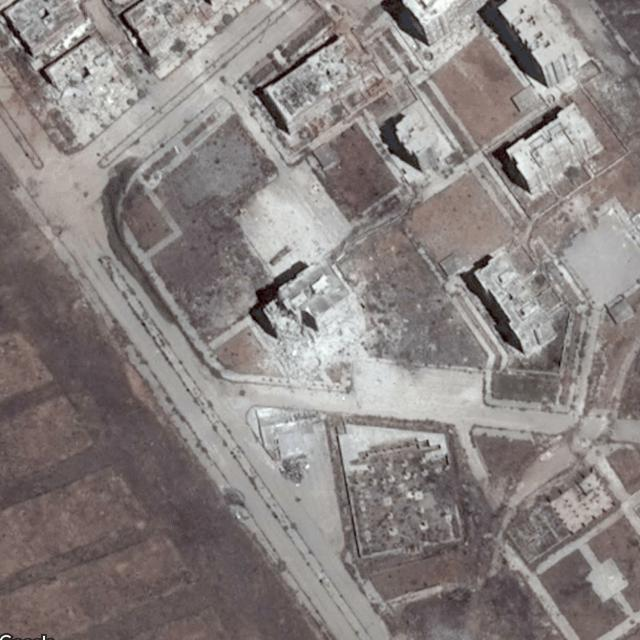damaged_building: (260, 258, 372, 381), (37, 35, 135, 143)
